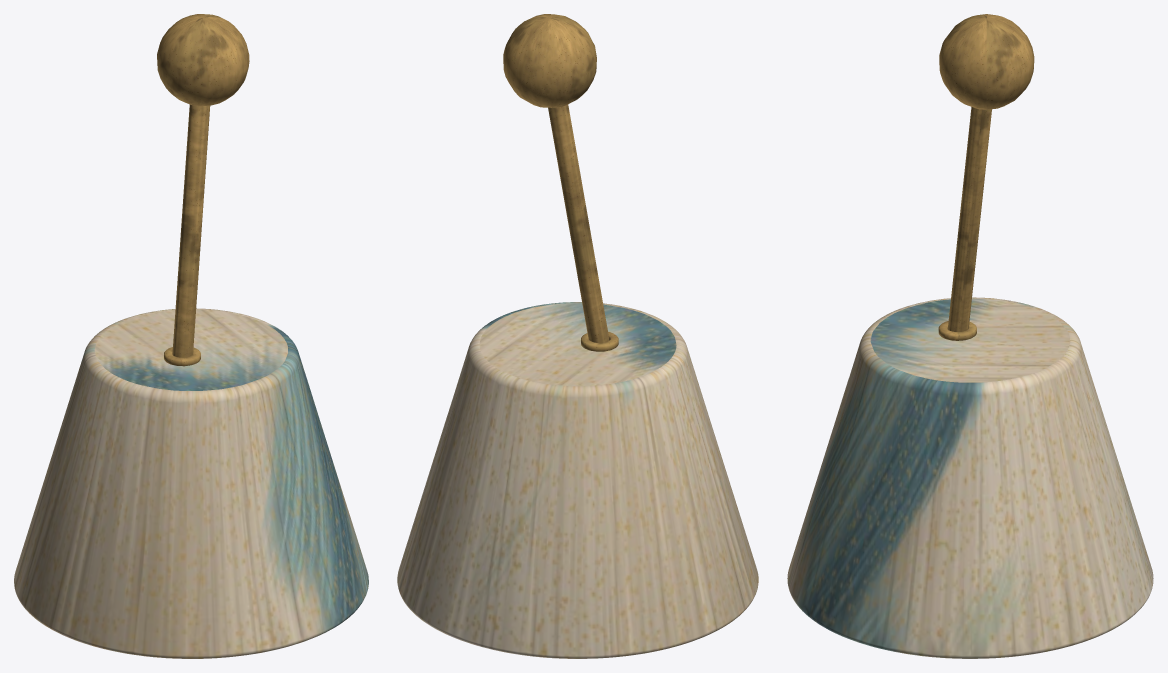
The model's file is pawn-white.glb.
The picture shows the model from 3 angles, left to right: view 1: azimuth 30°, elevation 25°; view 2: azimuth 150°, elevation 25°; view 3: azimuth 270°, elevation 25°; orthographic projection. The views are drawn at different scales.
Parts seen in each view (by area): view 1: Telo, Hlavicka, Jehla; view 2: Telo, Hlavicka, Jehla; view 3: Telo, Hlavicka, Jehla.
Part boxes in pixels (left/top/right/bottom): Telo: left=14, top=308, right=368, bottom=658; Hlavicka: left=157, top=14, right=249, bottom=106; Jehla: left=172, top=104, right=210, bottom=357; Telo: left=397, top=302, right=758, bottom=658; Hlavicka: left=503, top=14, right=596, bottom=107; Jehla: left=548, top=104, right=609, bottom=342; Telo: left=787, top=297, right=1153, bottom=658; Hlavicka: left=939, top=14, right=1034, bottom=109; Jehla: left=947, top=107, right=991, bottom=331.
Size of the model in its own units: 0.6352 by 1.1 by 0.6352.
3 materials, 3 textured.
